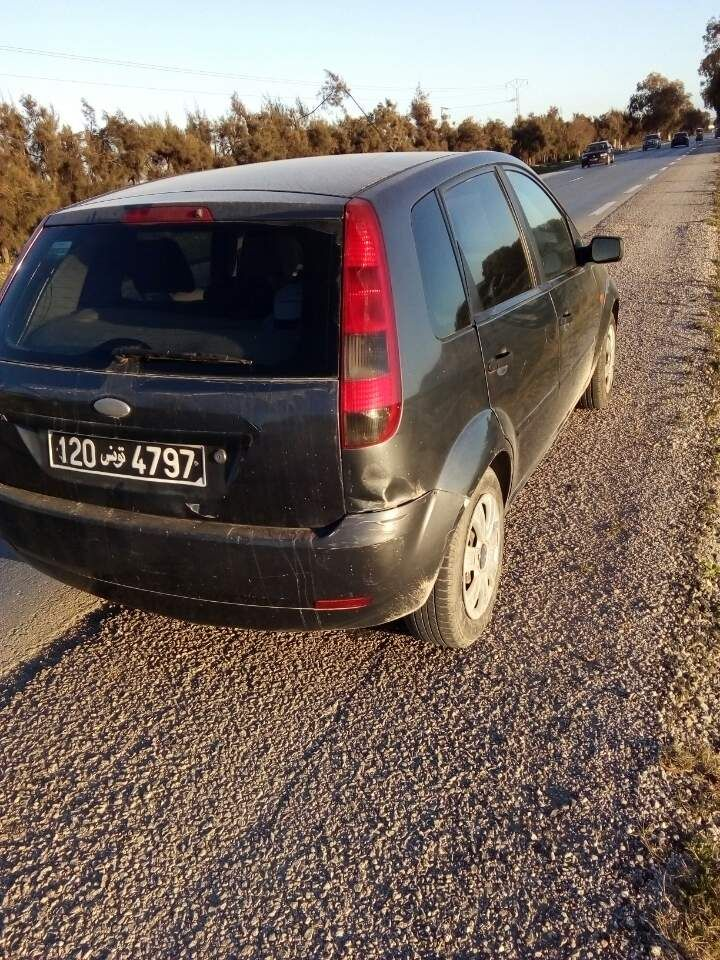LP: (44, 428, 207, 490)
